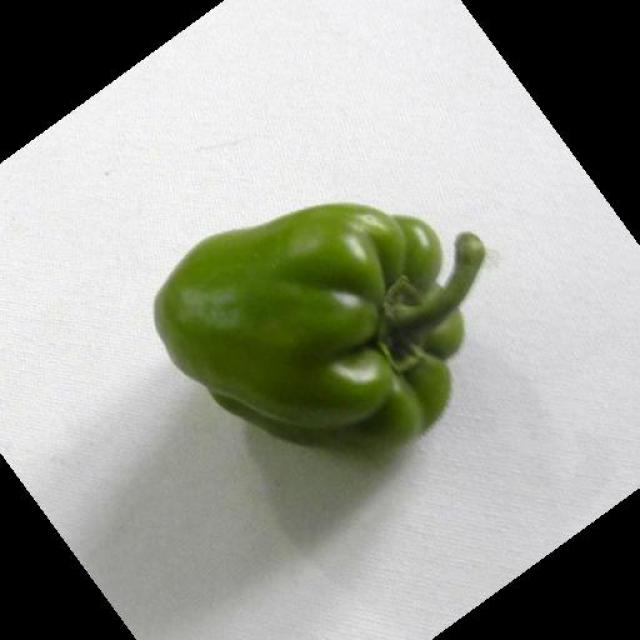Fresh_Capsicum: (149, 174, 470, 447)
